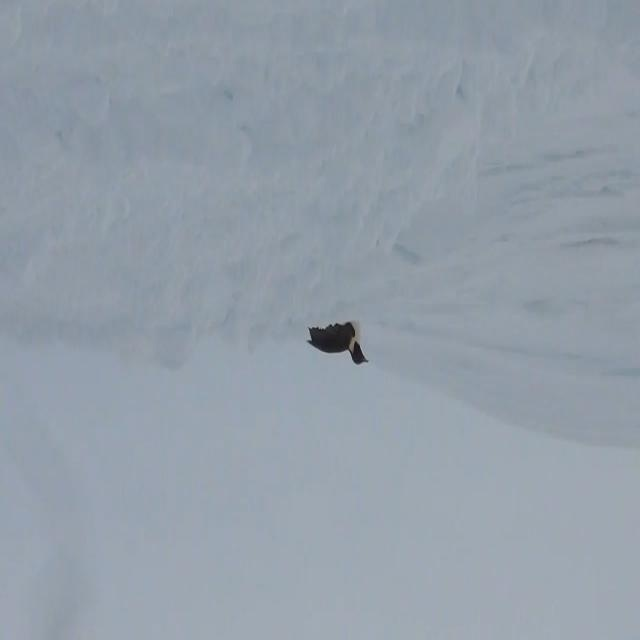penguin: (308, 321, 369, 367)
